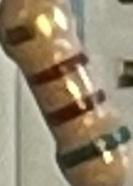Brown: (44, 87, 109, 130), (25, 49, 91, 91)
Green: (57, 123, 133, 172)
Side-Gold: (1, 1, 74, 53)
